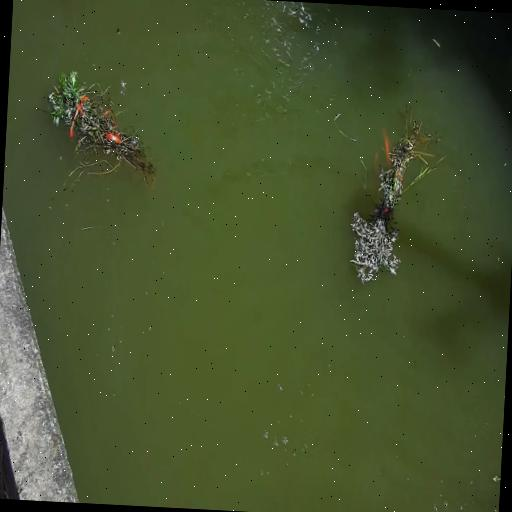twig: (346, 105, 446, 287), (40, 68, 162, 192)
